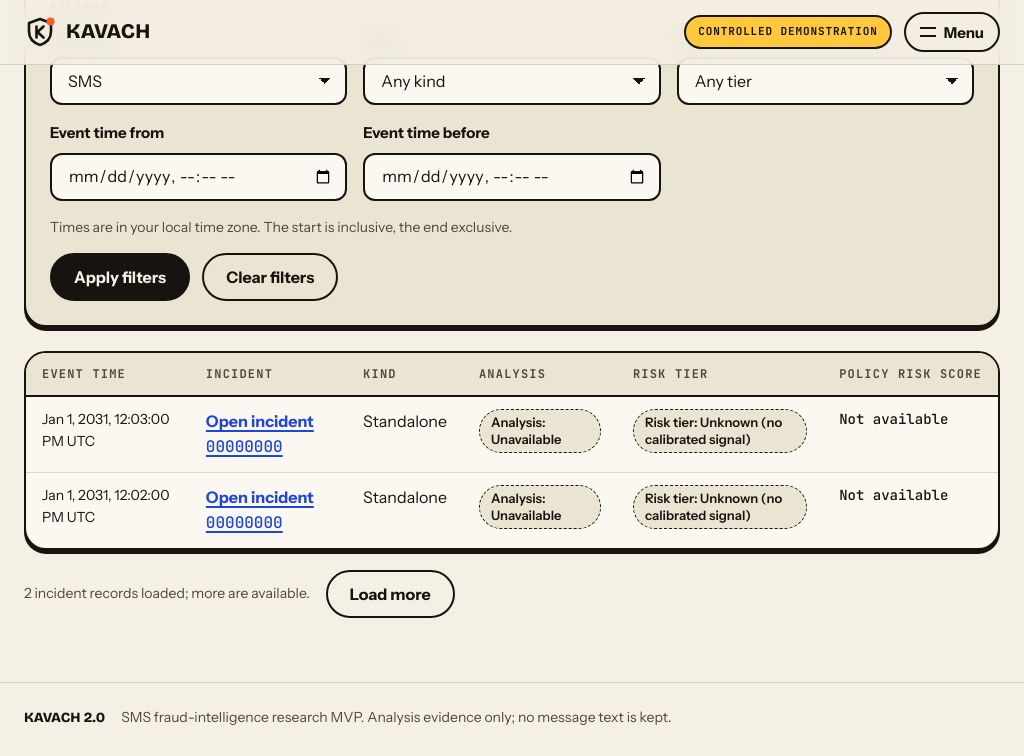
Scenario: incident history › pages with the server cursor and appends the next page
(page scrolled)
Expected: the table is shown, [26, 353, 998, 548]
Expected: the text "2 incident records loaded; more are available." is shown, [24, 584, 310, 604]
Click the button "Load more" at (390, 594), box [326, 570, 455, 618]
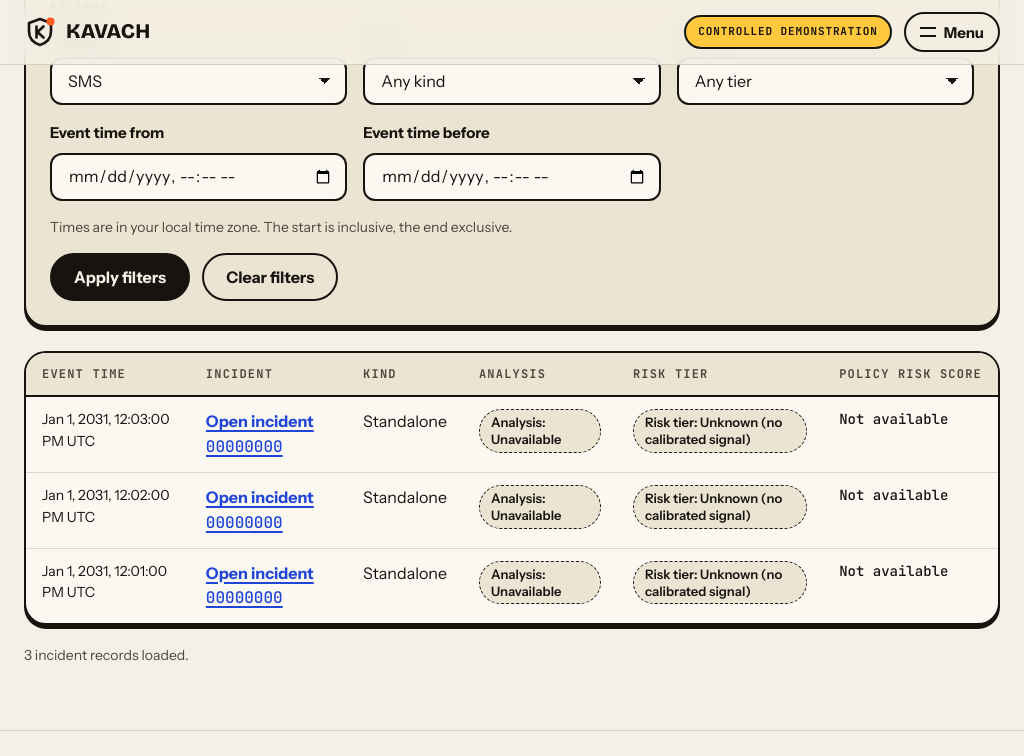
Now the text "3 incident records loaded." is shown, box [24, 645, 189, 666]
Now the button "Load more" is gone
